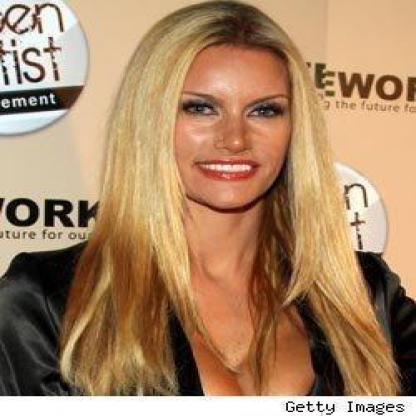long-hair: (85, 213, 361, 285)
